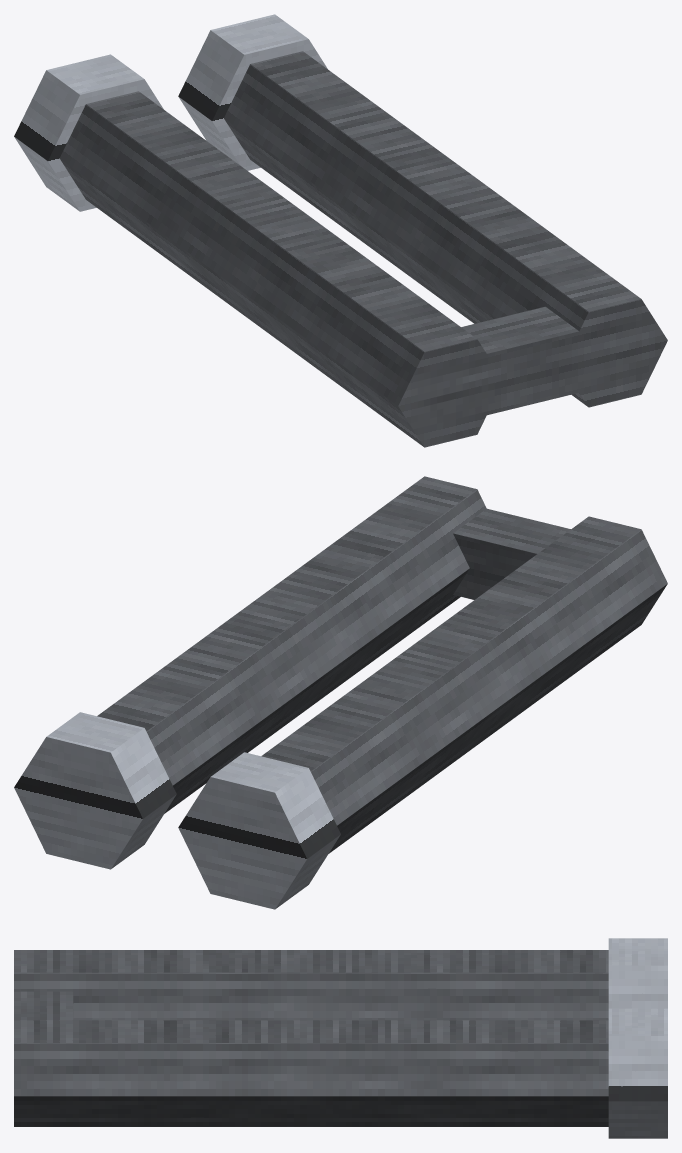
The model's file is twin_barrel_port_kestrel.glb.
3 views of the same model, one above another, from view 1: azimuth 30°, elevation 25°; view 2: azimuth 150°, elevation 25°; view 3: azimuth 270°, elevation 25° (orthographic). The views are drawn at different scales.
Parts seen in each view (by area): view 1: barrel, barrel.001, brace, muzzle, muzzle.001; view 2: barrel, barrel.001, muzzle, muzzle.001, brace; view 3: barrel.001, barrel, muzzle.001, muzzle, brace.
Part boxes in pixels (<box>): barrel: <box>59,91,503,447</box>; barrel.001: <box>224,51,667,407</box>; brace: <box>415,306,610,432</box>; muzzle: <box>14,54,163,211</box>; muzzle.001: <box>178,14,327,170</box>; barrel: <box>261,516,667,853</box>; barrel.001: <box>97,476,486,813</box>; muzzle: <box>178,752,340,909</box>; muzzle.001: <box>14,712,176,869</box>; brace: <box>453,508,570,599</box>; barrel.001: <box>14,1020,608,1126</box>; barrel: <box>14,950,608,1020</box>; muzzle.001: <box>608,1008,667,1138</box>; muzzle: <box>608,938,667,1008</box>; brace: <box>14,991,73,1020</box>.
Bounding box in the file's own units: 10 × 3.81 × 22.
2 materials, 2 textured.
